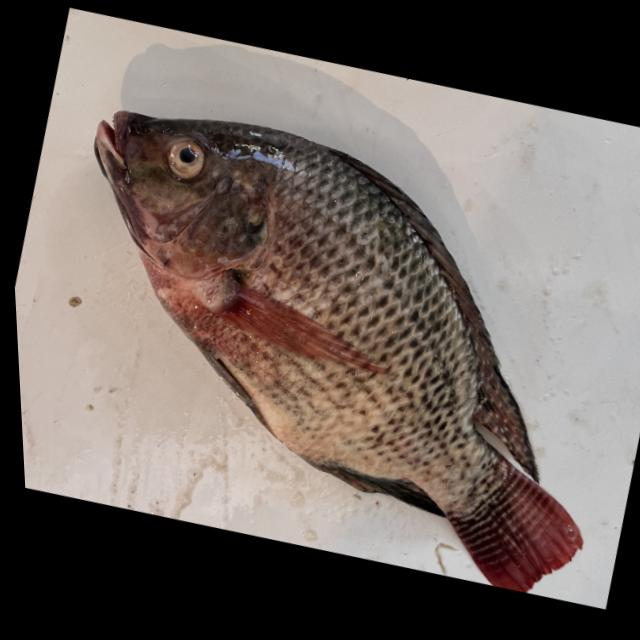Tilapia: (6, 72, 640, 622)
